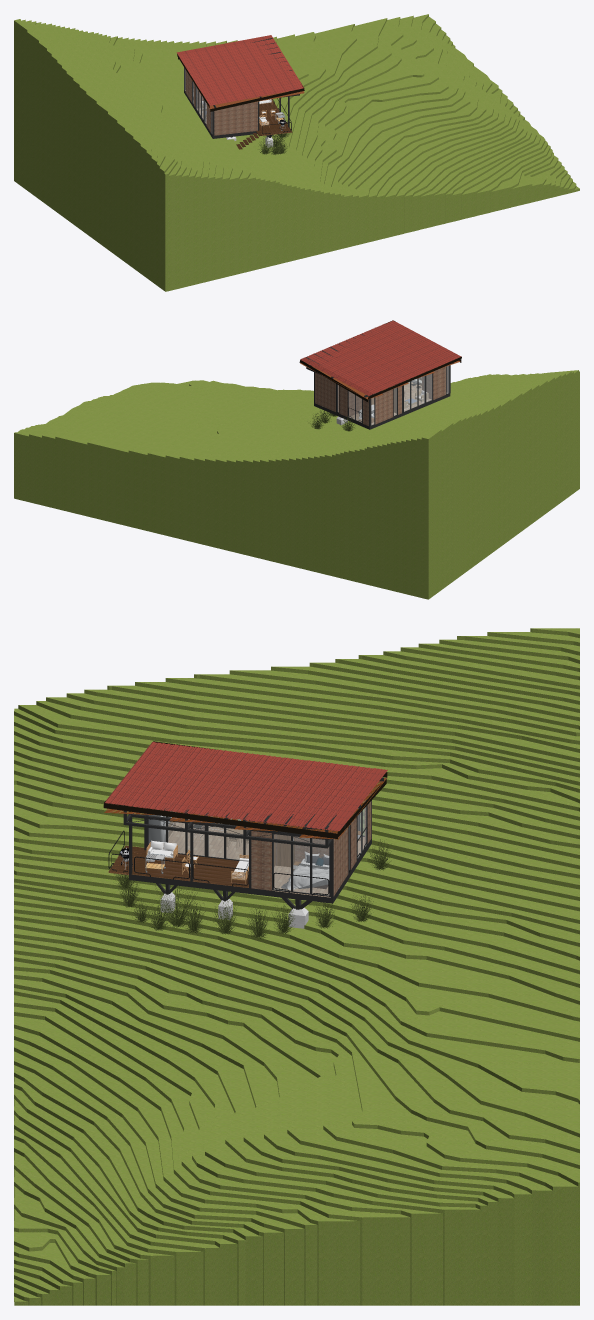
File: terreno_cabana_marco_1.glb
3 views of the same model, one above another, from view 1: azimuth 30°, elevation 25°; view 2: azimuth 150°, elevation 25°; view 3: azimuth 270°, elevation 25° (orthographic). The views are drawn at different scales.
Parts seen in each view (by area): view 1: G-Object, G-Object.020, C-Componente#13.010, C-Componente#13.007, C-Componente#13.002, C-Componente#13.004, C-Componente#13.005, C-Componente#13, C-Componente#13.003, C-Componente#13.006, C-Componente#13.001, C-Componente#13.009 (+1 smaller); view 2: G-Object, G-Object.007, G-Object.099, C-Componente#13.005, C-Componente#13, C-Componente#13.002, C-Componente#13.004, C-Componente#13.001, C-Componente#13.007, C-Componente#13.006, C-Componente#13.003, C-Componente#13.010 (+3 smaller); view 3: G-Object, G-Object.007, C-Componente#13.005, C-Componente#13, C-Componente#13.007, C-Componente#13.002, C-Componente#13.004, C-Componente#13.001, C-Componente#13.010, C-Componente#13.006, C-Componente#13.003, C-Componente#13.009 (+5 smaller).
Part boxes in pixels (left/top/right/bottom): G-Object: left=14, top=14, right=579, bottom=291; G-Object.020: left=214, top=101, right=257, bottom=135; C-Componente#13.010: left=207, top=83, right=303, bottom=105; C-Componente#13.007: left=197, top=68, right=294, bottom=90; C-Componente#13.002: left=181, top=43, right=279, bottom=65; C-Componente#13.004: left=188, top=53, right=285, bottom=75; C-Componente#13.005: left=191, top=58, right=288, bottom=80; C-Componente#13: left=200, top=73, right=297, bottom=95; C-Componente#13.003: left=185, top=48, right=282, bottom=70; C-Componente#13.006: left=194, top=63, right=291, bottom=85; C-Componente#13.001: left=204, top=78, right=300, bottom=100; C-Componente#13.009: left=178, top=38, right=275, bottom=60; G-Object: left=14, top=370, right=579, bottom=599; G-Object.007: left=314, top=382, right=450, bottom=429; G-Object.099: left=315, top=372, right=335, bottom=411; C-Componente#13.005: left=340, top=339, right=417, bottom=378; C-Componente#13: left=367, top=327, right=443, bottom=367; C-Componente#13.002: left=314, top=350, right=390, bottom=389; C-Componente#13.004: left=331, top=342, right=408, bottom=382; C-Componente#13.001: left=375, top=324, right=452, bottom=363; C-Componente#13.007: left=358, top=331, right=434, bottom=371; C-Componente#13.006: left=349, top=335, right=425, bottom=374; C-Componente#13.003: left=323, top=346, right=399, bottom=386; C-Componente#13.010: left=384, top=320, right=461, bottom=360; G-Object: left=14, top=628, right=579, bottom=1305; G-Object.007: left=129, top=818, right=371, bottom=903; C-Componente#13.005: left=215, top=755, right=285, bottom=819; C-Componente#13: left=148, top=747, right=218, bottom=811; C-Componente#13.007: left=171, top=749, right=241, bottom=813; C-Componente#13.002: left=282, top=763, right=352, bottom=827; C-Componente#13.004: left=238, top=757, right=308, bottom=821; C-Componente#13.001: left=126, top=744, right=196, bottom=808; C-Componente#13.010: left=105, top=741, right=174, bottom=805; C-Componente#13.006: left=193, top=752, right=263, bottom=816; C-Componente#13.003: left=260, top=760, right=330, bottom=824; C-Componente#13.009: left=305, top=765, right=374, bottom=829.
Size of the model in its own units: 42.25 by 15.63 by 26.75.
72 materials, 42 textured.
